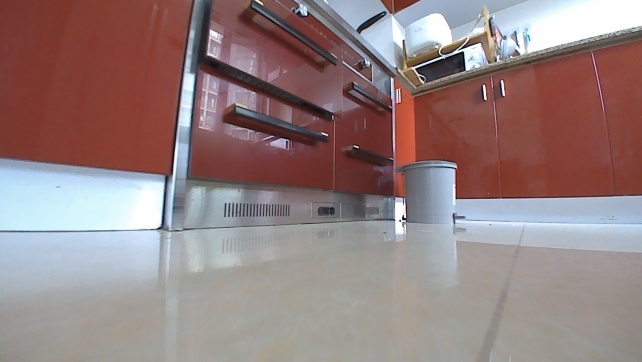cupboard: (0, 0, 641, 234)
wire: (438, 35, 470, 56)
